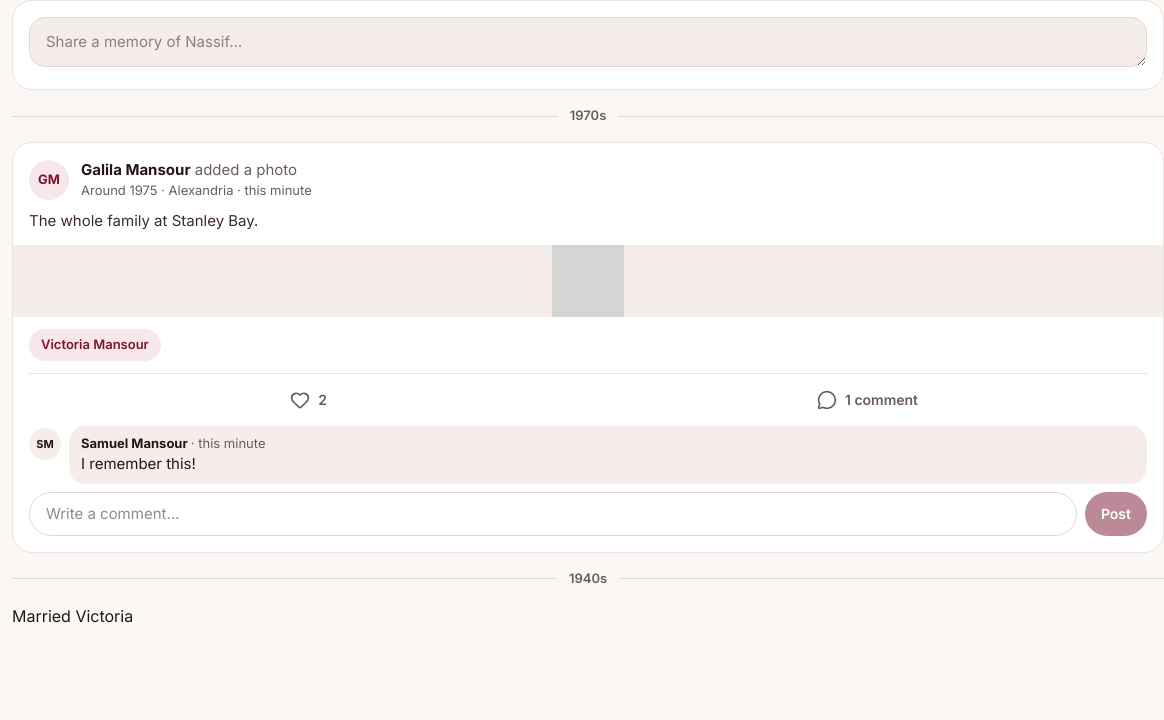
Test: Timeline › hearts update straight away and are saved
The image size is (1164, 720).
Click the button "2": (308, 400) [29, 378, 588, 422]
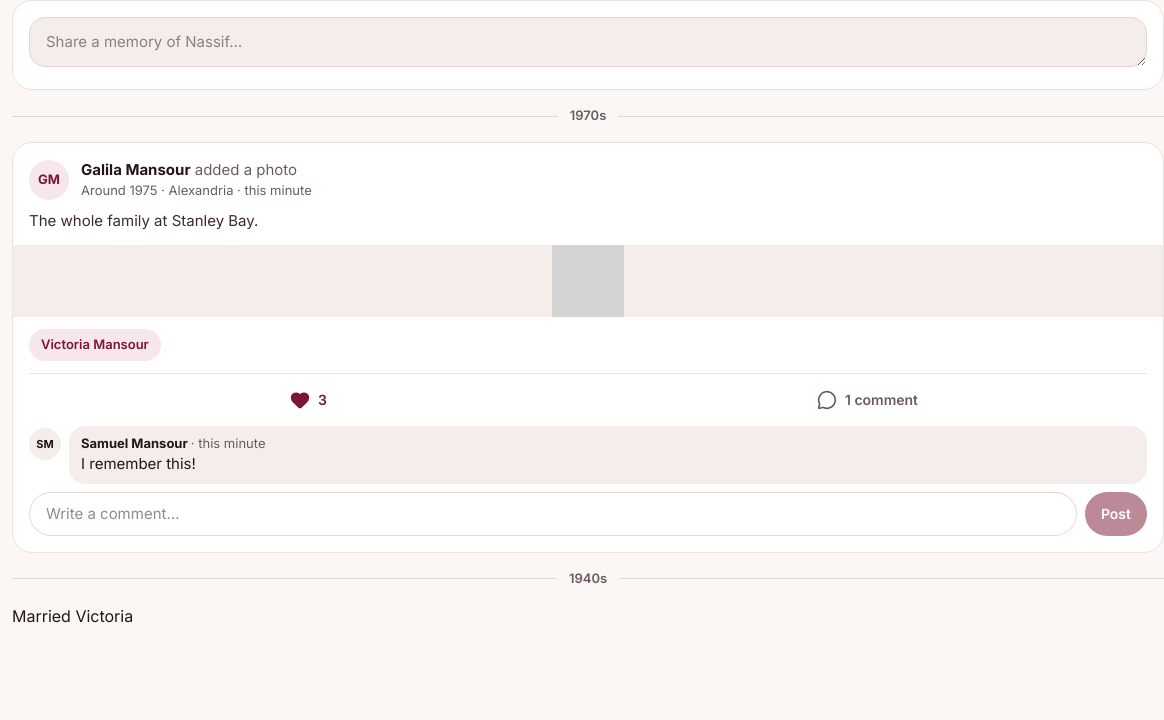
Now the button "3" is shown, box [29, 378, 588, 422]
